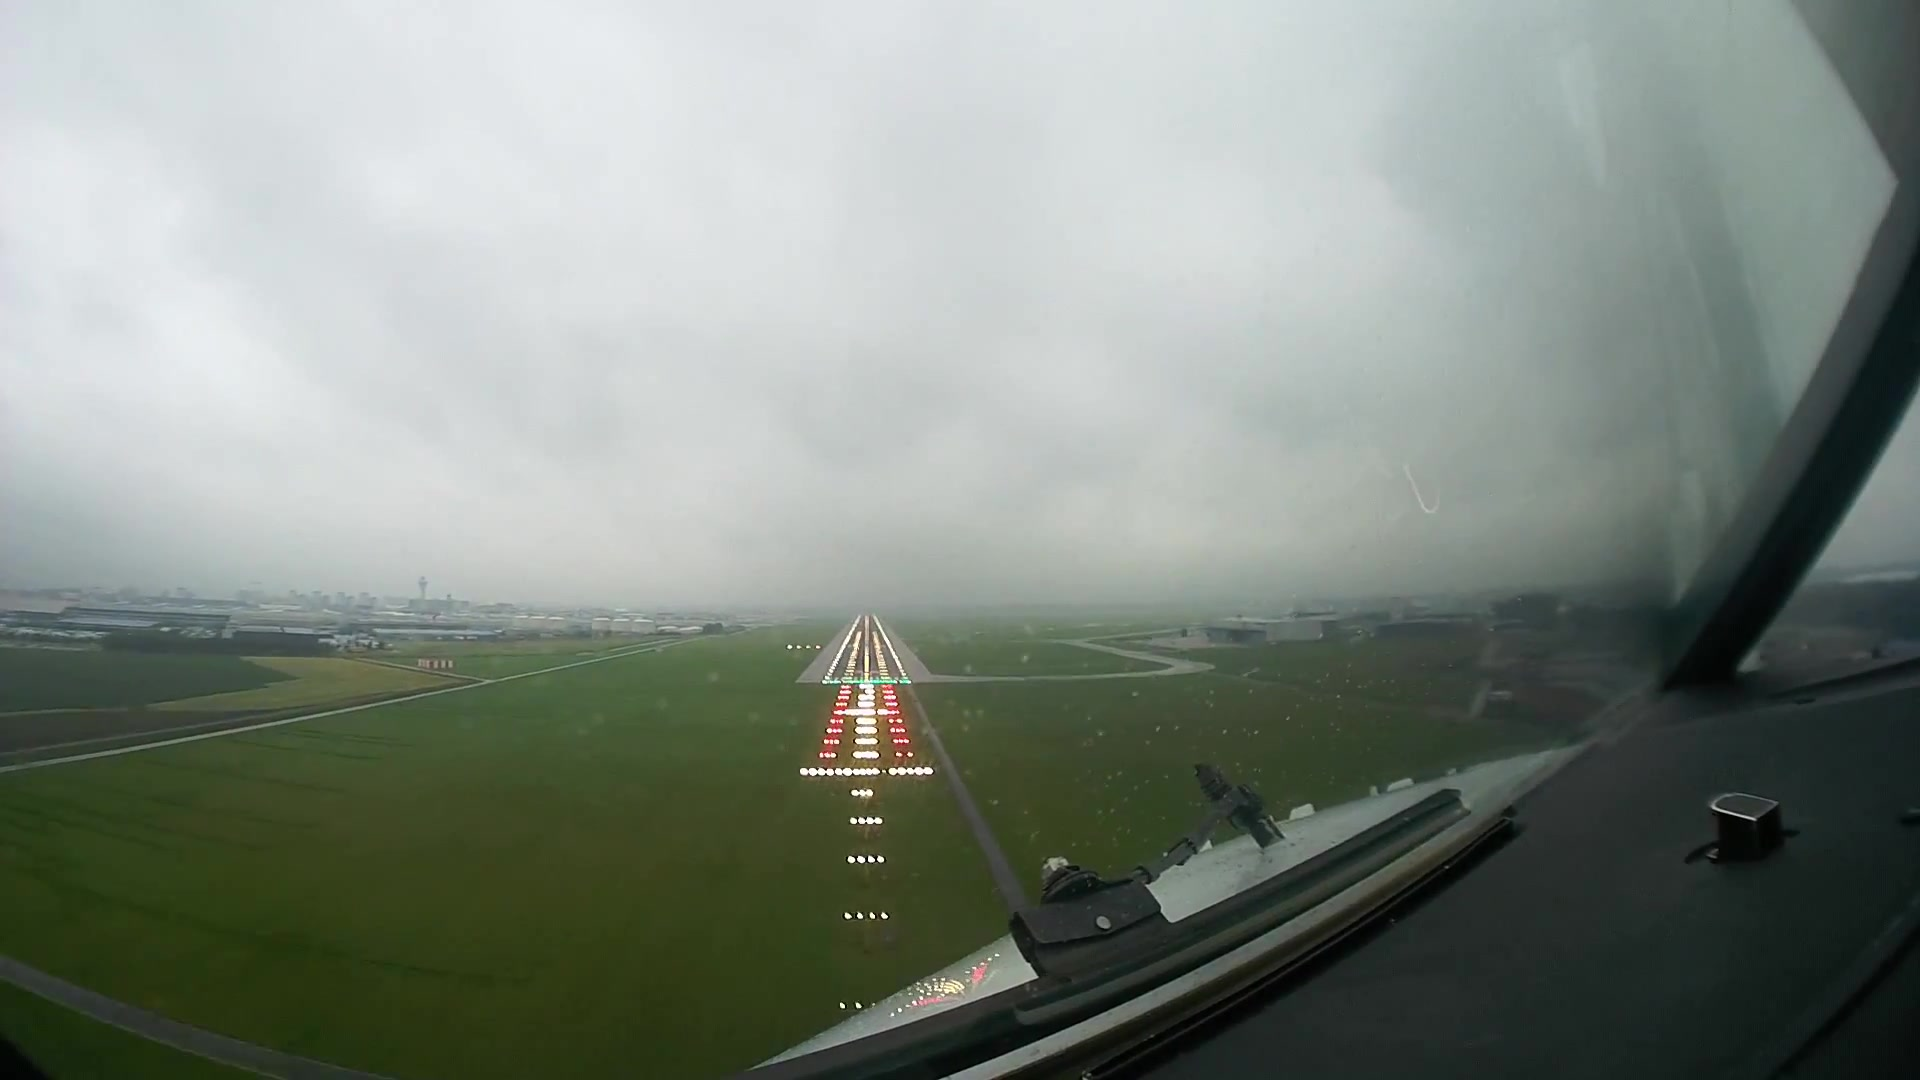runway: (796, 613, 938, 687)
